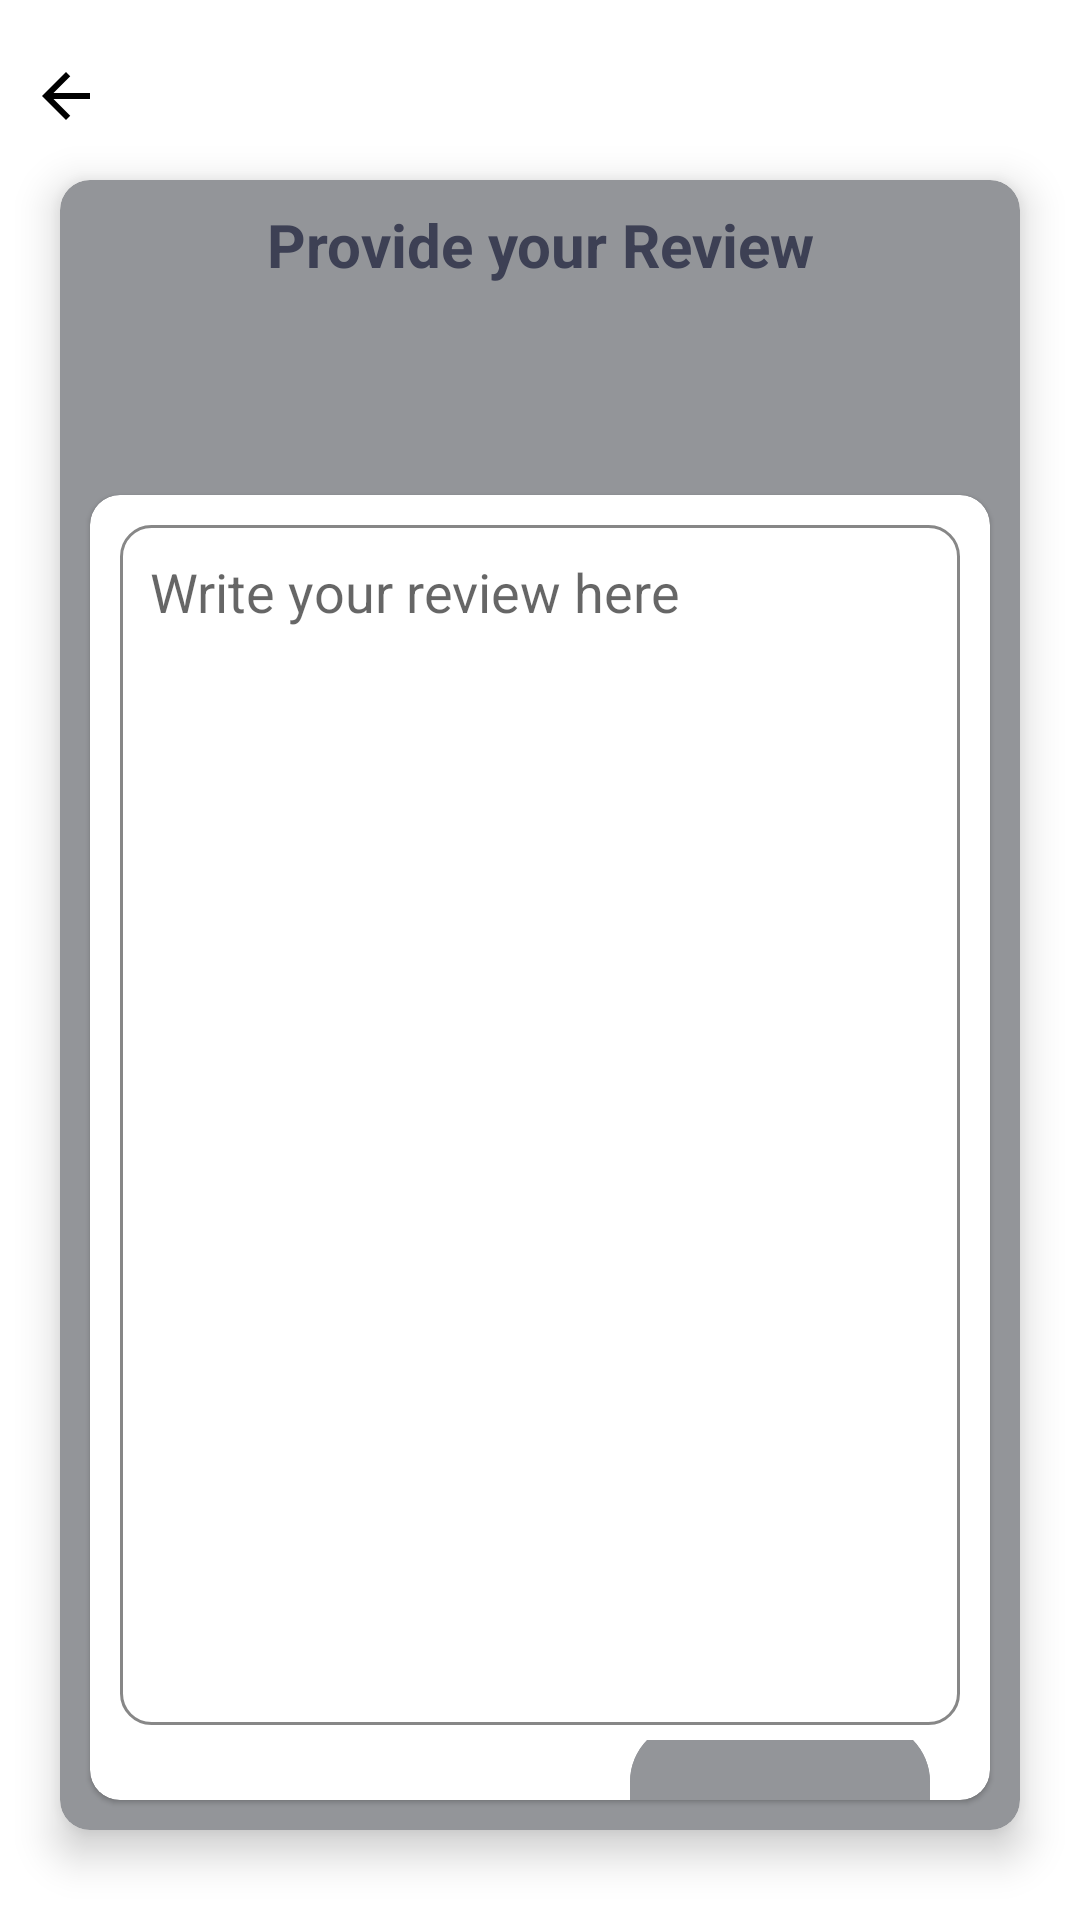

Where icons sit on this 1080x1920 app screen, as (x1=x1, y1=y1, x2=x2, y2=y2):
arrow back: (x1=42, y1=72, x2=90, y2=120)
